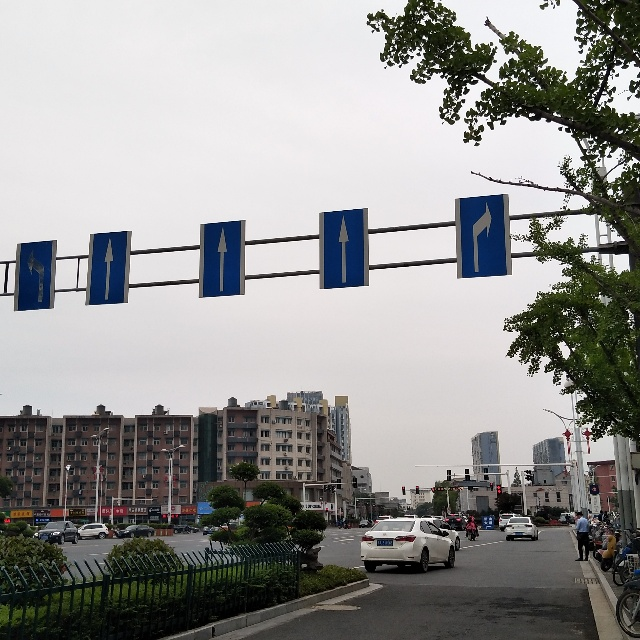left: (14, 242, 56, 311)
right: (463, 197, 506, 276)
straight: (328, 212, 364, 287), (206, 225, 241, 297), (92, 229, 126, 302)
